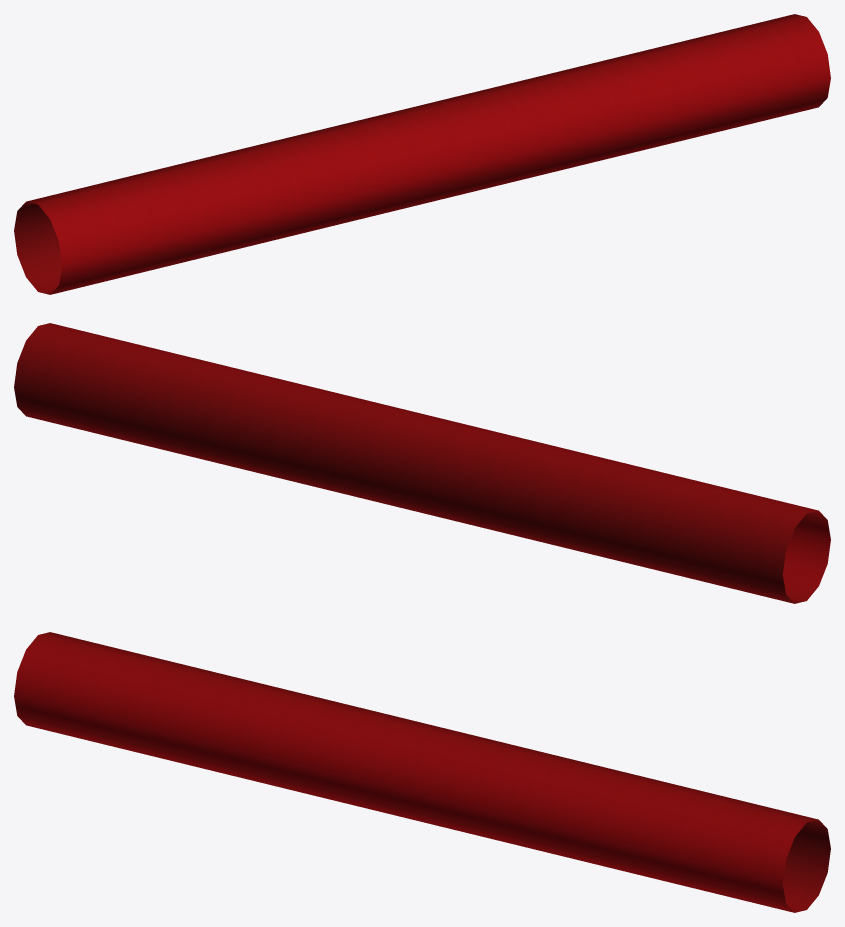
The model's file is TuberiaMedium.FBX.
3 renders of one model, top to bottom at view 1: azimuth 30°, elevation 25°; view 2: azimuth 150°, elevation 25°; view 3: azimuth 330°, elevation 25°, orthographic.
Parts seen in each view (by area): view 1: TubeMedium002; view 2: TubeMedium002; view 3: TubeMedium002.
Part boxes in pixels (x1,y1,x2,y2): TubeMedium002: (14,14,830,294); TubeMedium002: (14,323,830,603); TubeMedium002: (14,632,830,912).
Size of the model in its own units: 20.05 by 2.18 by 2.18.
